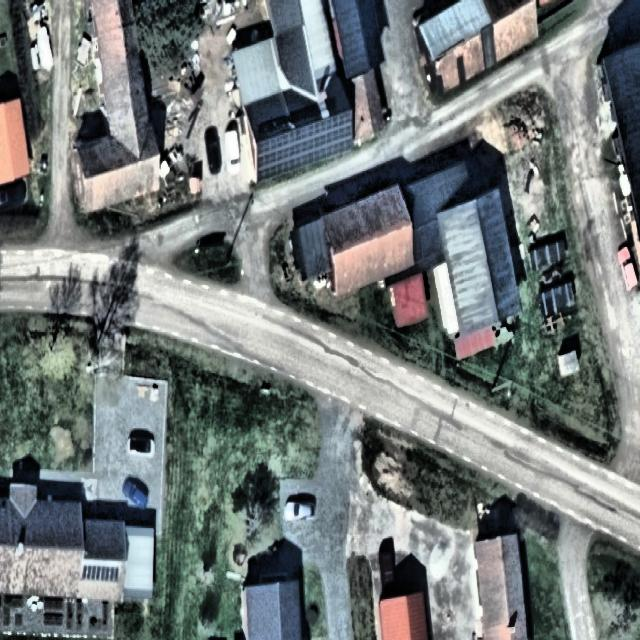roof_pv: (256, 132, 294, 182), (320, 112, 354, 160), (290, 124, 323, 172)
